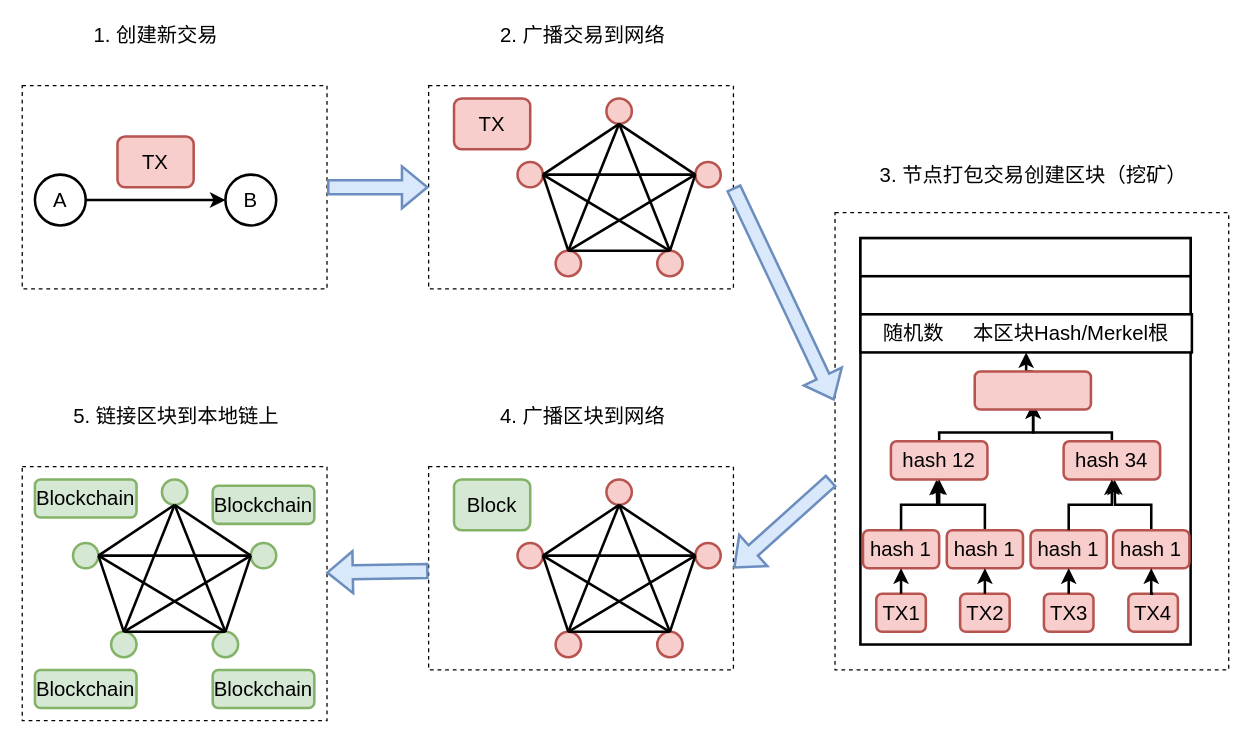
The diagram is 1251 pixels wide and 743 high, and some of its shapes have lost their labels. Here are the shapes that lost their labels. From the top down, the box of each, then its label:
(859, 236, 1191, 277): 前区块Hash 版本号
(859, 274, 1191, 315): 时间戳 难度
(973, 370, 1092, 410): hash 1234
